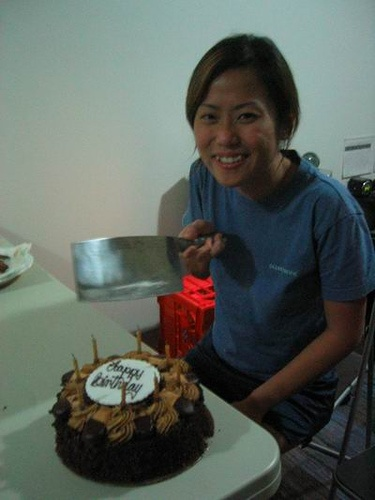head: (191, 34, 282, 190)
person: (163, 30, 375, 456)
